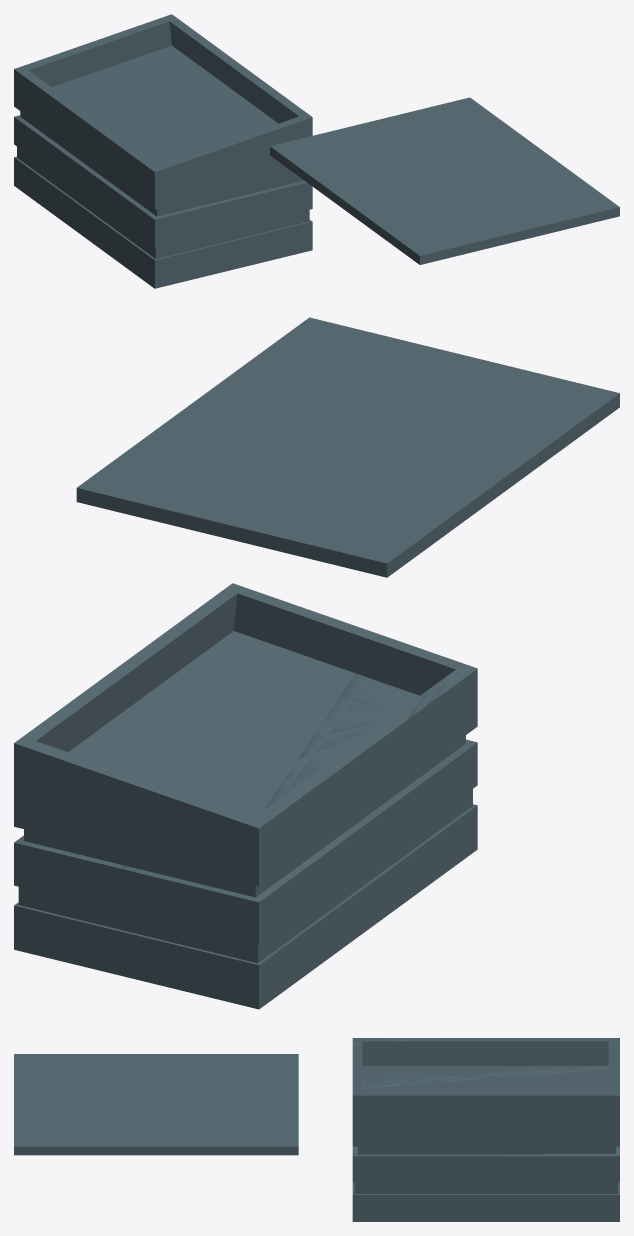
Rendered from ContainerV3.1_Sliced.fbx.
3 views of the same model, one above another, from view 1: azimuth 30°, elevation 25°; view 2: azimuth 150°, elevation 25°; view 3: azimuth 270°, elevation 25° (orthographic). The views are drawn at different scales.
Visible parts, largest first — view 1: shard5, shard8, shard9, shard3, Surface73, Surface69, Surface71, Surface76, Surface74, Surface78, shard6, Surface79 (+8 smaller); view 2: shard5, shard8, shard9, shard2, Surface73, Surface71, Surface76, Surface69, Surface79, Surface74, Surface75, Surface77 (+8 smaller); view 3: shard8, shard6, shard9, shard5, Surface73, Surface71, Surface76, Surface74, Surface69, Surface75, Surface79, Surface78 (+6 smaller).
Boxes of the visible parts, x1,y1,x2,y2 form: shard5: [14, 87, 235, 282]; shard8: [123, 14, 312, 176]; shard9: [14, 31, 205, 153]; shard3: [186, 179, 312, 264]; Surface73: [435, 132, 567, 190]; Surface69: [366, 210, 487, 264]; Surface71: [450, 169, 608, 209]; Surface76: [305, 132, 434, 203]; Surface74: [333, 159, 457, 221]; Surface78: [458, 207, 561, 248]; shard6: [234, 171, 312, 233]; Surface79: [307, 111, 421, 154]; shard5: [158, 661, 477, 1008]; shard8: [14, 583, 409, 826]; shard9: [14, 681, 423, 878]; shard2: [46, 866, 264, 1009]; Surface73: [151, 376, 382, 459]; Surface71: [229, 330, 442, 424]; Surface76: [226, 459, 489, 533]; Surface69: [444, 373, 619, 467]; Surface79: [144, 487, 346, 559]; Surface74: [302, 422, 527, 501]; Surface75: [104, 433, 300, 487]; Surface77: [313, 508, 446, 577]; shard8: [352, 1054, 619, 1169]; shard6: [352, 1146, 619, 1221]; shard9: [374, 1038, 619, 1178]; shard5: [352, 1038, 608, 1085]; Surface73: [108, 1096, 207, 1155]; Surface71: [33, 1089, 122, 1155]; Surface76: [179, 1054, 252, 1113]; Surface74: [122, 1054, 194, 1104]; Surface69: [14, 1054, 115, 1088]; Surface75: [195, 1105, 264, 1155]; Surface79: [241, 1071, 298, 1119]; Surface78: [14, 1079, 84, 1114].
Bounding box in the file's own units: 616 × 292 × 1188.
